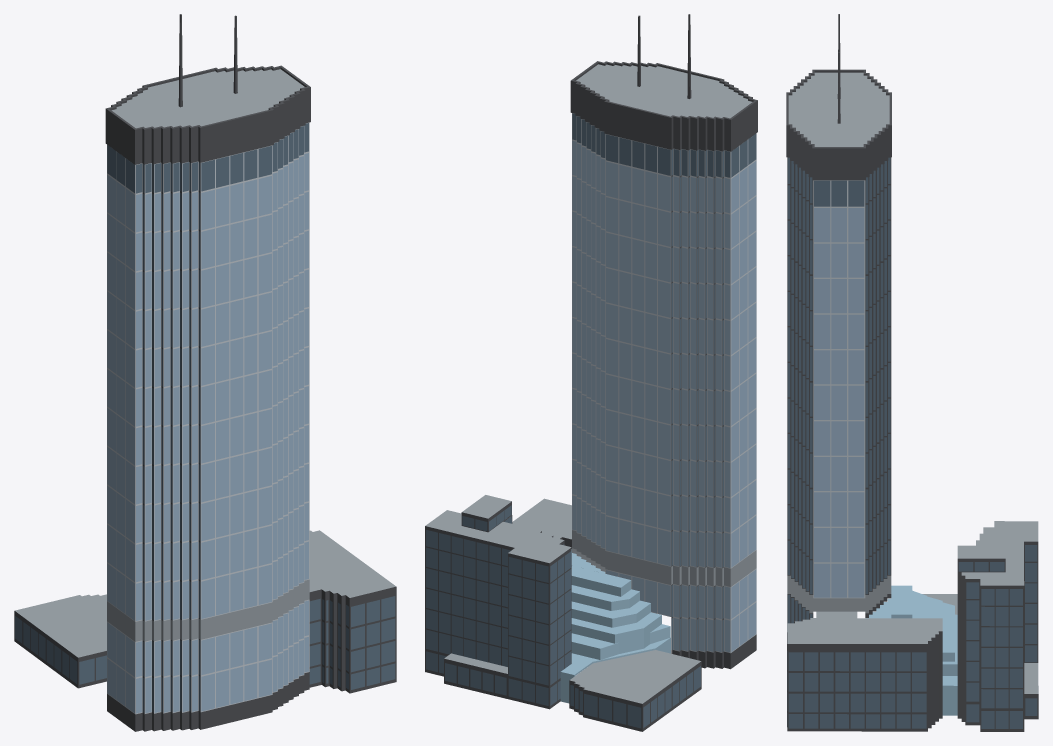
Rendered from msp-ids-center.glb.
3 views of the same model, side by side, from view 1: azimuth 30°, elevation 25°; view 2: azimuth 150°, elevation 25°; view 3: azimuth 270°, elevation 25° (orthographic). The views are drawn at different scales.
Visible parts, largest first — view 1: IDS Center; view 2: IDS Center; view 3: IDS Center.
Part boxes in pixels (x1,y1,x2,y2): IDS Center: (14,14,396,731); IDS Center: (425,14,757,731); IDS Center: (786,14,1038,731).
Bounding box in the file's own units: 104 × 277 × 100.
